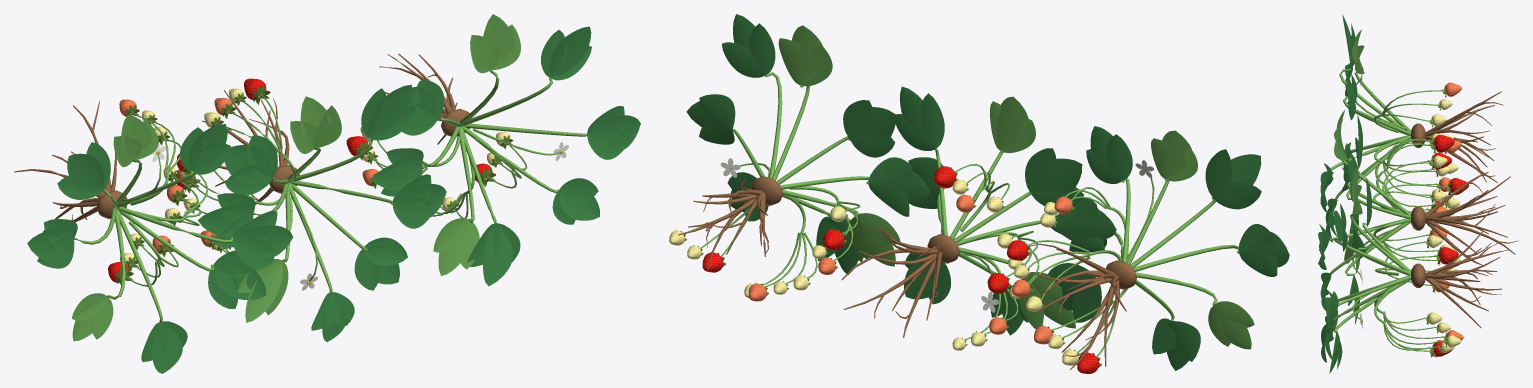
The model's file is strawberry-set.glb.
3 renders of one model, left to right at view 1: azimuth 30°, elevation 25°; view 2: azimuth 150°, elevation 25°; view 3: azimuth 270°, elevation 25°, orthographic. The views are drawn at different scales.
Parts seen in each view (by area): view 1: Plant_C_Stems, Plant_A_Stems, Plant_B_Stems, Plant_B_Leaf_04, Plant_A_Leaf_01, Plant_B_Leaf_02, Plant_A_Leaf_08, Plant_A_Leaf_04, Plant_C_Leaf_03, Plant_C_Leaf_02, Plant_B_Leaf_08, Plant_C_Leaf_07 (+22 smaller); view 2: Plant_A_Roots, Plant_A_Stems, Plant_B_Roots, Plant_C_Stems, Plant_A_Leaf_04, Plant_C_Roots, Plant_B_Leaf_04, Plant_C_Leaf_04, Plant_C_Leaf_02, Plant_B_Leaf_02, Plant_C_Leaf_05, Plant_C_Leaf_03 (+21 smaller); view 3: Plant_B_Roots, Plant_C_Roots, Plant_C_Stems, Plant_A_Stems, Plant_A_Roots, Plant_B_Stems, Plant_A_Truss_02, Plant_B_Truss_02, Plant_A_Truss_03, Plant_C_Truss_03, Plant_C_Truss_02, Plant_B_Truss_01 (+26 smaller).
Boxes of the visible parts, bbox=[...] form: Plant_C_Stems: bbox=[422, 70, 587, 223]; Plant_A_Stems: bbox=[74, 154, 233, 321]; Plant_B_Stems: bbox=[253, 138, 393, 292]; Plant_B_Leaf_04: bbox=[224, 135, 277, 195]; Plant_A_Leaf_01: bbox=[233, 210, 293, 268]; Plant_B_Leaf_02: bbox=[361, 84, 416, 140]; Plant_A_Leaf_08: bbox=[208, 250, 266, 308]; Plant_A_Leaf_04: bbox=[57, 142, 110, 199]; Plant_C_Leaf_03: bbox=[470, 14, 520, 73]; Plant_C_Leaf_02: bbox=[541, 26, 591, 80]; Plant_B_Leaf_08: bbox=[354, 237, 407, 290]; Plant_C_Leaf_07: bbox=[467, 223, 520, 286]; Plant_A_Roots: bbox=[1027, 243, 1136, 369]; Plant_A_Stems: bbox=[1114, 169, 1238, 320]; Plant_B_Roots: bbox=[841, 226, 959, 337]; Plant_C_Stems: bbox=[730, 72, 869, 216]; Plant_A_Leaf_04: bbox=[1205, 149, 1261, 209]; Plant_C_Roots: bbox=[678, 176, 782, 270]; Plant_B_Leaf_04: bbox=[1025, 148, 1083, 205]; Plant_C_Leaf_04: bbox=[843, 100, 895, 157]; Plant_C_Leaf_02: bbox=[722, 14, 775, 77]; Plant_B_Leaf_02: bbox=[895, 86, 944, 150]; Plant_C_Leaf_05: bbox=[868, 157, 930, 216]; Plant_C_Leaf_03: bbox=[778, 25, 832, 86]; Plant_B_Roots: bbox=[1411, 172, 1518, 265]; Plant_C_Roots: bbox=[1411, 231, 1509, 328]; Plant_C_Stems: bbox=[1333, 212, 1411, 332]; Plant_A_Stems: bbox=[1330, 68, 1411, 201]; Plant_A_Roots: bbox=[1411, 91, 1503, 182]; Plant_B_Stems: bbox=[1329, 158, 1411, 275]; Plant_A_Truss_02: bbox=[1374, 140, 1436, 195]; Plant_B_Truss_02: bbox=[1373, 162, 1444, 210]; Plant_A_Truss_03: bbox=[1373, 90, 1441, 132]; Plant_C_Truss_03: bbox=[1374, 292, 1442, 350]; Plant_C_Truss_02: bbox=[1374, 295, 1441, 351]; Plant_B_Truss_01: bbox=[1376, 139, 1432, 209].
Bounding box in the file's own units: 1.33 × 0.5702 × 0.467.
Materials: 9 (3 with a texture image).
